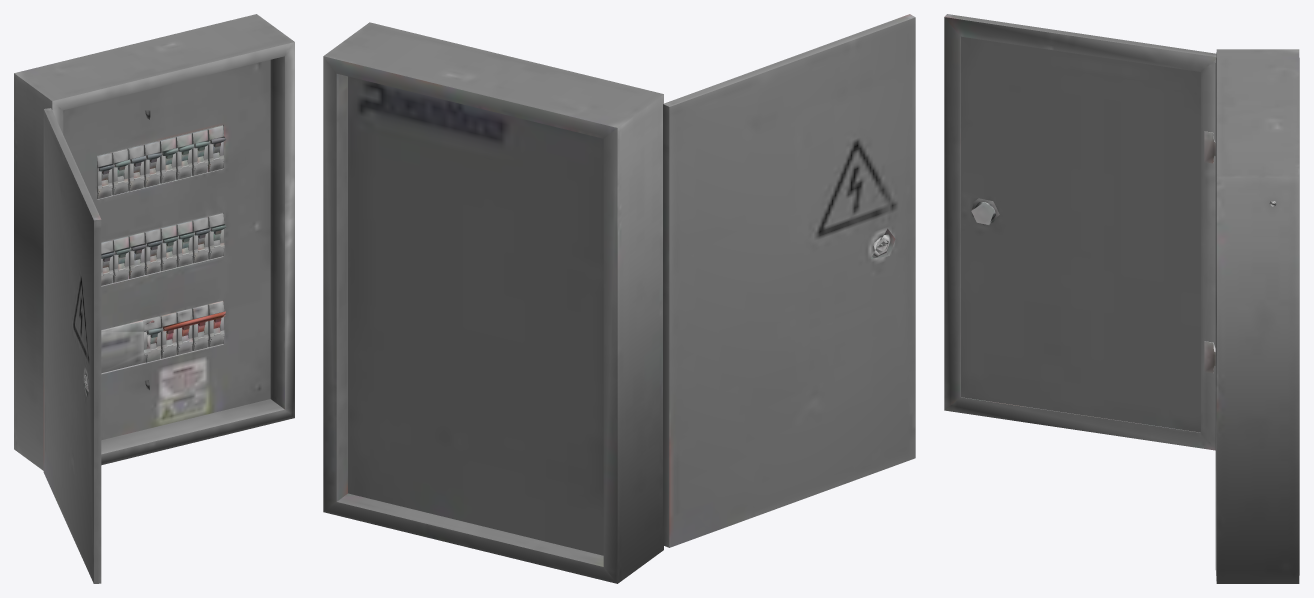
The model's file is powerbox.glb.
3 renders of one model, left to right at view 1: azimuth 30°, elevation 25°; view 2: azimuth 150°, elevation 25°; view 3: azimuth 270°, elevation 25°, orthographic. The views are drawn at different scales.
Visible parts, largest first — view 1: power_box_01_box, power_box_01_door; view 2: power_box_01_box, power_box_01_door; view 3: power_box_01_door, power_box_01_box.
Boxes of the visible parts, x1=… form: power_box_01_box: x1=14, y1=14, x2=294, y2=470; power_box_01_door: x1=43, y1=108, x2=101, y2=583; power_box_01_box: x1=323, y1=22, x2=663, y2=583; power_box_01_door: x1=663, y1=14, x2=915, y2=547; power_box_01_door: x1=944, y1=14, x2=1216, y2=450; power_box_01_box: x1=1215, y1=49, x2=1299, y2=583.
Bounding box in the file's own units: 0.4608 × 0.5031 × 0.399.
Materials: 1 (1 with a texture image).
